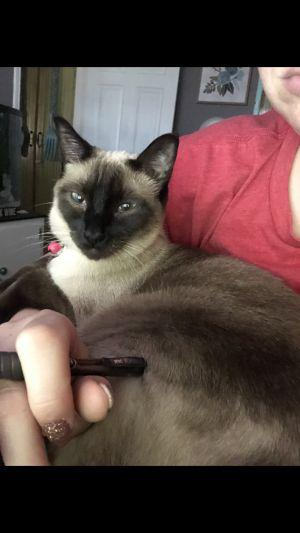siamese: (36, 103, 193, 272)
